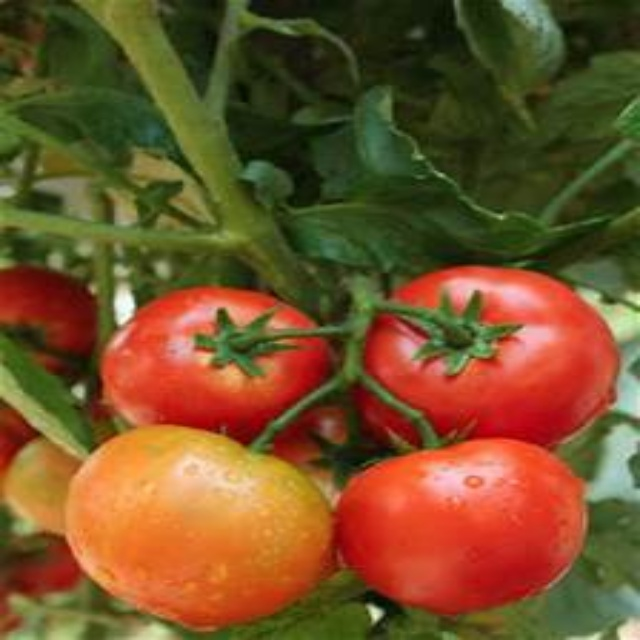tomato: (57, 428, 328, 617), (361, 270, 615, 454), (98, 276, 331, 448), (344, 443, 573, 609), (12, 264, 104, 386)
